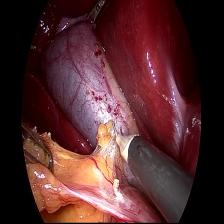Grasper: (19, 121, 57, 175), (83, 1, 107, 34)
Hook: (107, 114, 150, 165)
